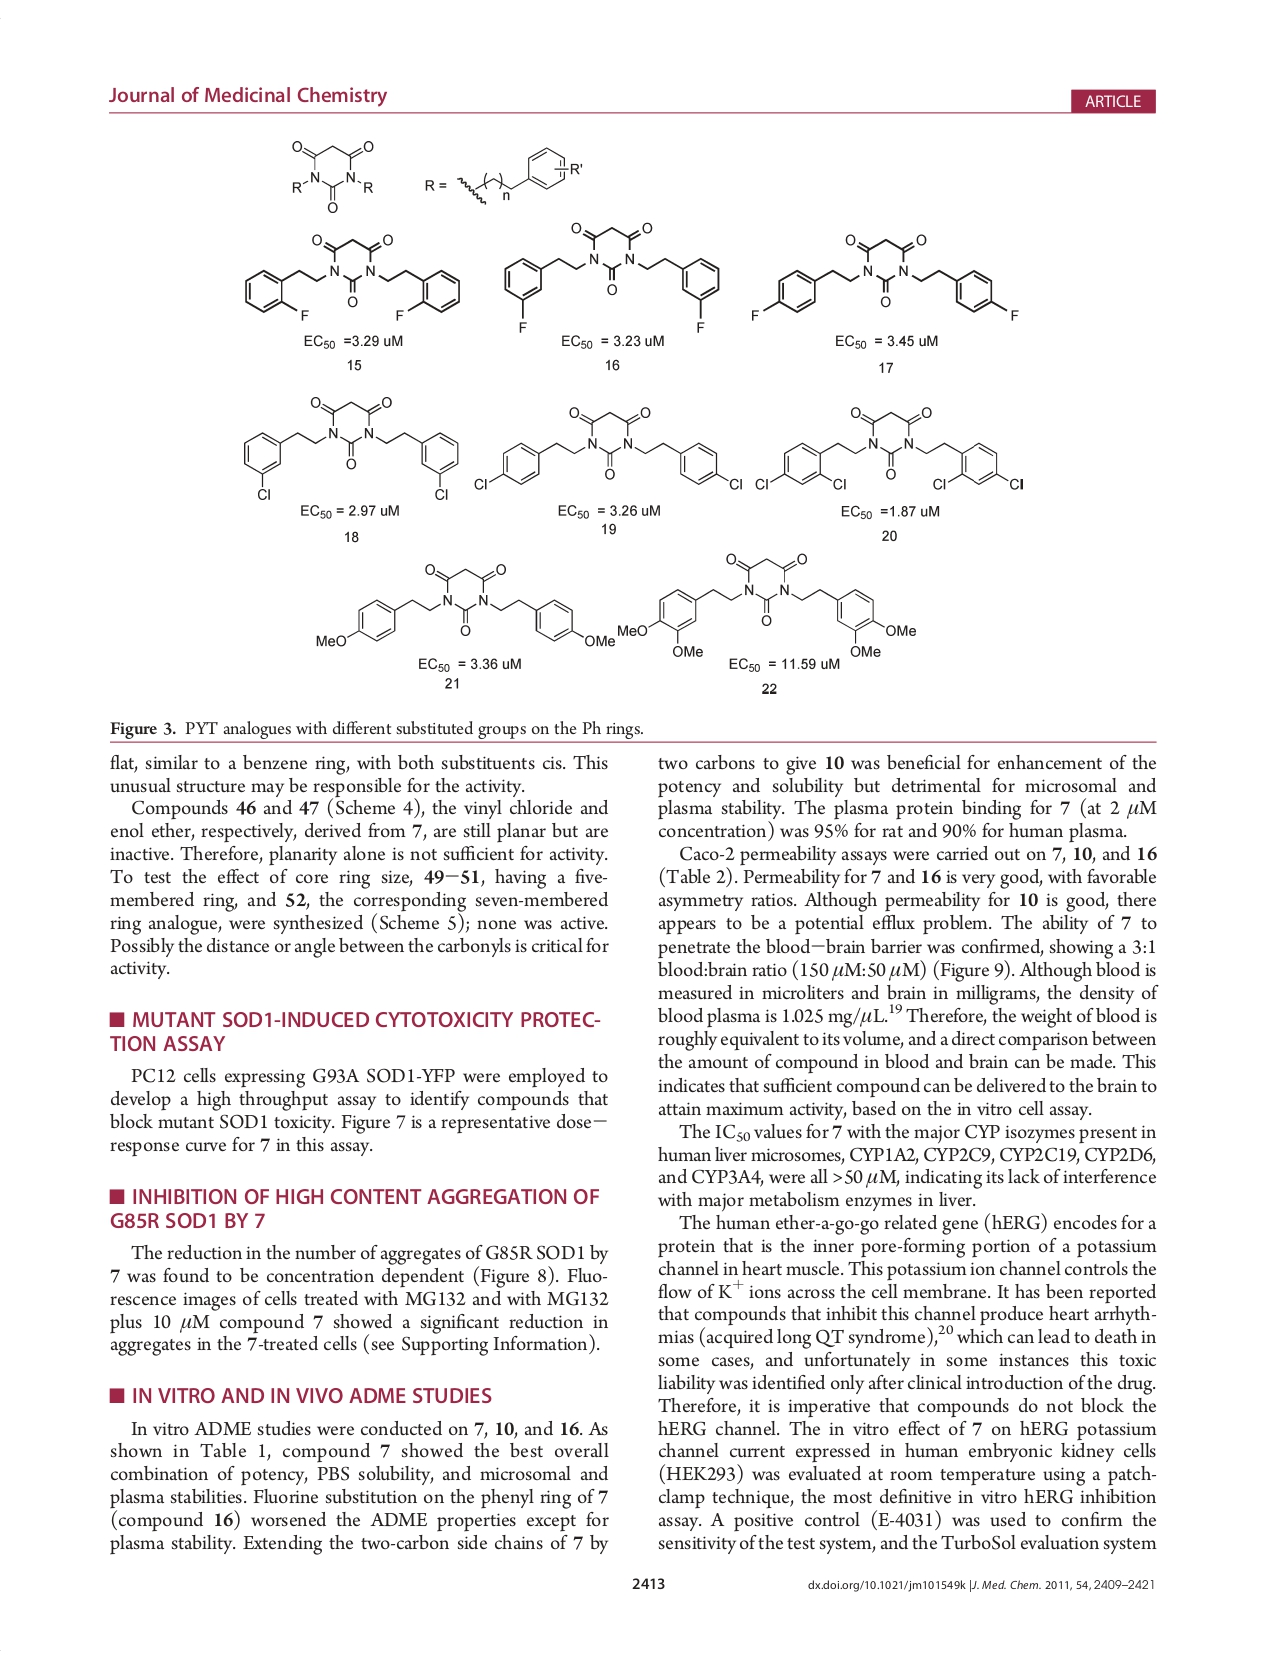exist_molecular: (614, 551, 918, 658), (310, 559, 614, 652), (745, 225, 1023, 326), (750, 403, 1028, 500), (497, 219, 725, 334), (239, 390, 463, 500), (473, 403, 742, 493), (241, 227, 461, 321), (448, 145, 585, 207), (281, 130, 378, 217)
